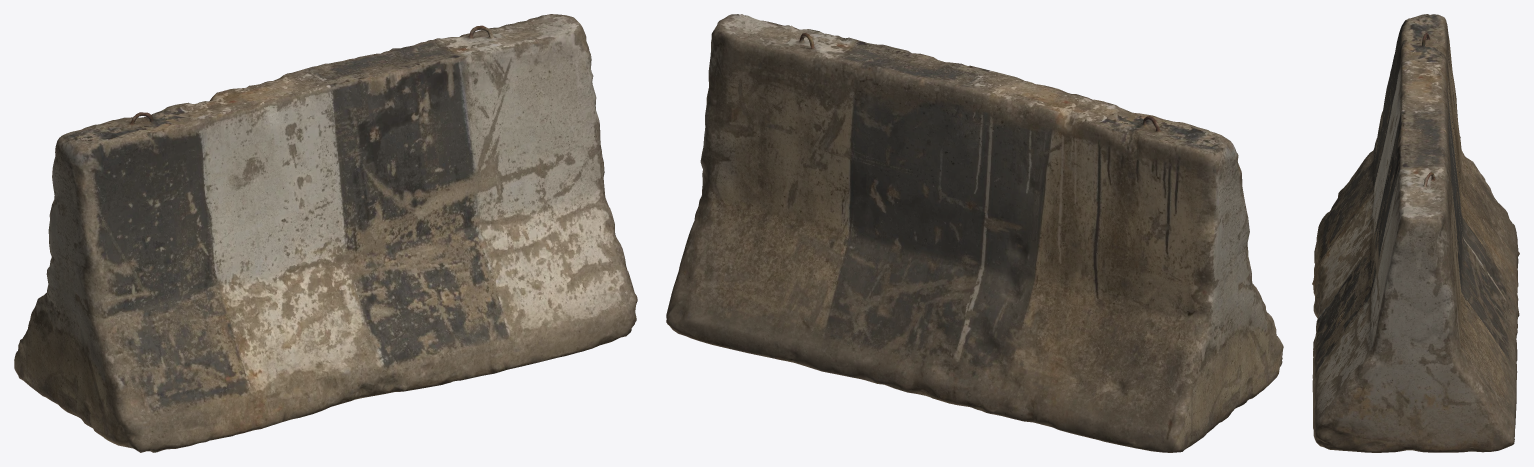
File: concrete_road_barrier.glb
3 views of the same model, side by side, from view 1: azimuth 30°, elevation 25°; view 2: azimuth 150°, elevation 25°; view 3: azimuth 270°, elevation 25° (orthographic). The views are drawn at different scales.
Parts seen in each view (by area): view 1: concrete_road_barrier; view 2: concrete_road_barrier; view 3: concrete_road_barrier.
Part boxes in pixels (<box>): concrete_road_barrier: <box>14,14,637,452</box>; concrete_road_barrier: <box>666,14,1283,452</box>; concrete_road_barrier: <box>1312,14,1519,452</box>.
Size of the model in its own units: 1.54 by 0.8307 by 0.6386.
Materials: 1 (1 with a texture image).
